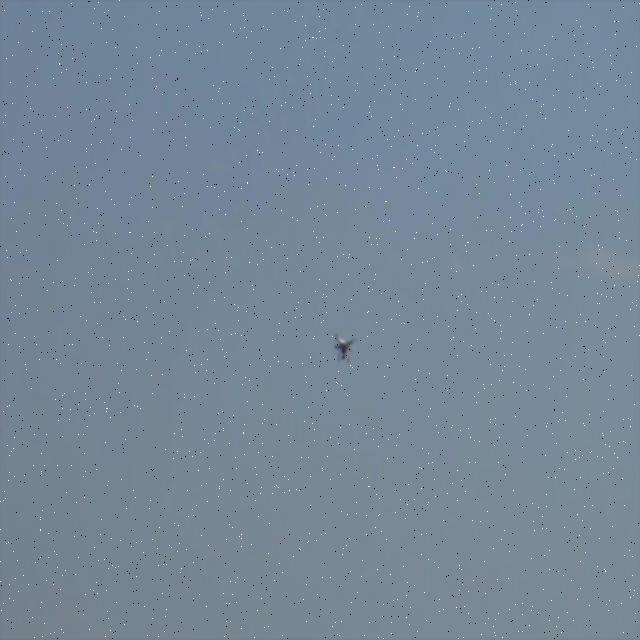UAV: (334, 334, 356, 364)
